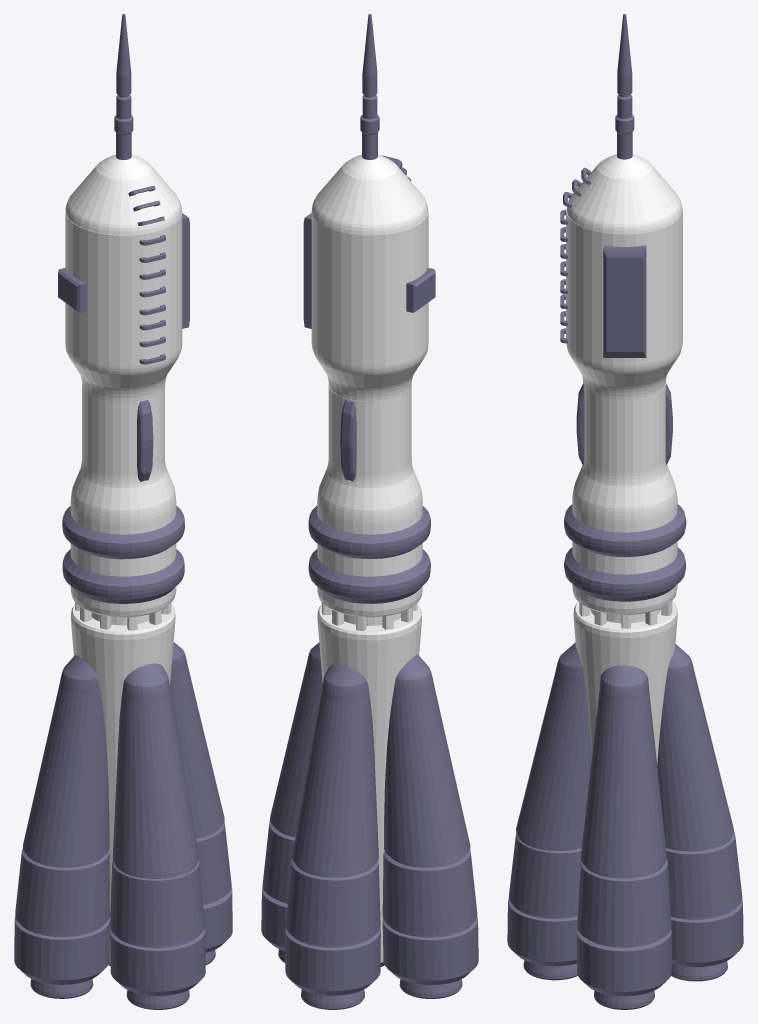
3 renders of one model, left to right at view 1: azimuth 30°, elevation 25°; view 2: azimuth 150°, elevation 25°; view 3: azimuth 270°, elevation 25°, orthographic.
Parts seen in each view (by area): view 1: Bottom3, Top3, Middle3; view 2: Bottom3, Top3, Middle3; view 3: Bottom3, Top3, Middle3.
Part boxes in pixels (bbox=[...]): Bottom3: bbox=[14, 602, 232, 1009]; Top3: bbox=[58, 14, 189, 401]; Middle3: bbox=[62, 383, 184, 617]; Bottom3: bbox=[261, 602, 478, 1009]; Top3: bbox=[303, 14, 435, 401]; Middle3: bbox=[308, 385, 430, 617]; Bottom3: bbox=[507, 601, 743, 1009]; Top3: bbox=[560, 14, 682, 400]; Middle3: bbox=[564, 382, 686, 614].
Bounding box in the file's own units: 17.84 × 79.4 × 17.84.
